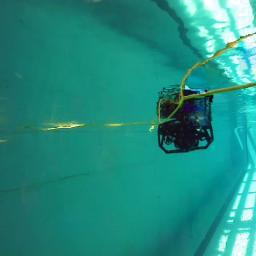Side: (158, 117, 214, 155), (158, 116, 214, 154)
